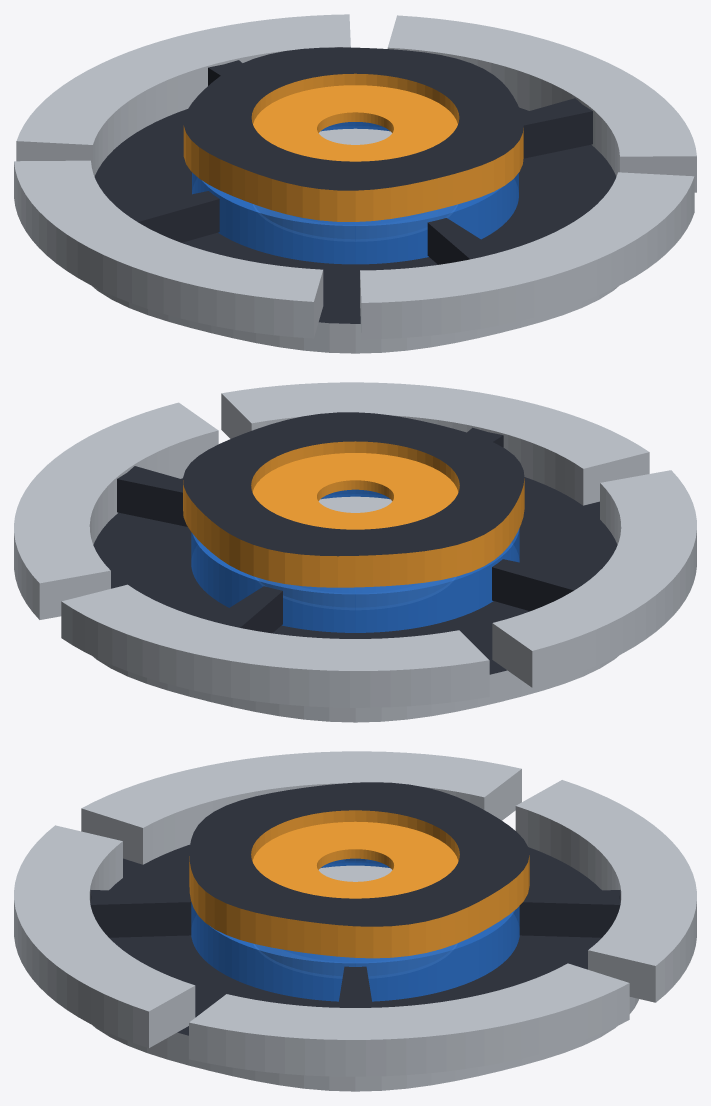
File: assembly_phase2a_orbit_halo.glb
3 renders of one model, top to bottom at view 1: azimuth 30°, elevation 25°; view 2: azimuth 150°, elevation 25°; view 3: azimuth 270°, elevation 25°, orthographic.
Parts seen in each view (by area): view 1: GEO_core_solar_wolf_BODY, GEO_blade_orbit_halo_RING_4, GEO_blade_orbit_halo_RING_3, GEO_assist_heavy_BODY, GEO_blade_orbit_halo_RING_2, GEO_blade_orbit_halo_RING_1, GEO_blade_orbit_halo_HUB, GEO_core_solar_wolf_NSS_V1_COLLAR, GEO_blade_orbit_halo_SPOKE_3, GEO_blade_orbit_halo_SPOKE_1, GEO_blade_orbit_halo_SPOKE_4, GEO_blade_orbit_halo_NSS_V1_COLLAR; view 2: GEO_core_solar_wolf_BODY, GEO_blade_orbit_halo_RING_2, GEO_assist_heavy_BODY, GEO_blade_orbit_halo_RING_3, GEO_blade_orbit_halo_RING_4, GEO_blade_orbit_halo_RING_1, GEO_blade_orbit_halo_HUB, GEO_core_solar_wolf_NSS_V1_COLLAR, GEO_blade_orbit_halo_SPOKE_3, GEO_blade_orbit_halo_SPOKE_1, GEO_blade_orbit_halo_SPOKE_2, GEO_blade_orbit_halo_NSS_V1_COLLAR; view 3: GEO_core_solar_wolf_BODY, GEO_blade_orbit_halo_RING_1, GEO_blade_orbit_halo_RING_4, GEO_blade_orbit_halo_RING_2, GEO_assist_heavy_BODY, GEO_blade_orbit_halo_RING_3, GEO_blade_orbit_halo_HUB, GEO_core_solar_wolf_NSS_V1_COLLAR, GEO_blade_orbit_halo_SPOKE_4, GEO_blade_orbit_halo_SPOKE_2, GEO_blade_orbit_halo_SPOKE_1, GEO_blade_orbit_halo_NSS_V1_COLLAR.
Boxes of the visible parts, <box> form: GEO_core_solar_wolf_BODY: <box>183,47,523,221</box>; GEO_blade_orbit_halo_RING_4: <box>360,172,694,339</box>; GEO_blade_orbit_halo_RING_3: <box>14,160,323,338</box>; GEO_assist_heavy_BODY: <box>92,107,618,353</box>; GEO_blade_orbit_halo_RING_2: <box>16,14,350,176</box>; GEO_blade_orbit_halo_RING_1: <box>387,15,696,192</box>; GEO_blade_orbit_halo_HUB: <box>192,122,518,264</box>; GEO_core_solar_wolf_NSS_V1_COLLAR: <box>253,85,457,161</box>; GEO_blade_orbit_halo_SPOKE_3: <box>120,191,219,242</box>; GEO_blade_orbit_halo_SPOKE_1: <box>521,98,592,158</box>; GEO_blade_orbit_halo_SPOKE_4: <box>427,218,500,264</box>; GEO_blade_orbit_halo_NSS_V1_COLLAR: <box>319,128,391,144</box>; GEO_core_solar_wolf_BODY: <box>183,412,524,587</box>; GEO_blade_orbit_halo_RING_2: <box>61,584,489,707</box>; GEO_assist_heavy_BODY: <box>93,477,618,722</box>; GEO_blade_orbit_halo_RING_3: <box>492,470,696,687</box>; GEO_blade_orbit_halo_RING_4: <box>221,382,649,505</box>; GEO_blade_orbit_halo_RING_1: <box>14,402,218,619</box>; GEO_blade_orbit_halo_HUB: <box>191,489,519,632</box>; GEO_core_solar_wolf_NSS_V1_COLLAR: <box>252,453,458,529</box>; GEO_blade_orbit_halo_SPOKE_3: <box>492,559,591,611</box>; GEO_blade_orbit_halo_SPOKE_1: <box>117,466,187,526</box>; GEO_blade_orbit_halo_SPOKE_2: <box>209,586,282,633</box>; GEO_blade_orbit_halo_NSS_V1_COLLAR: <box>318,496,392,512</box>; GEO_core_solar_wolf_BODY: <box>189,782,529,958</box>; GEO_blade_orbit_halo_RING_1: <box>189,963,629,1076</box>; GEO_blade_orbit_halo_RING_4: <box>14,825,195,1048</box>; GEO_blade_orbit_halo_RING_2: <box>515,780,696,1002</box>; GEO_assist_heavy_BODY: <box>92,844,639,1091</box>; GEO_blade_orbit_halo_RING_3: <box>81,751,521,864</box>; GEO_blade_orbit_halo_HUB: <box>191,858,519,1001</box>; GEO_core_solar_wolf_NSS_V1_COLLAR: <box>252,821,458,898</box>; GEO_blade_orbit_halo_SPOKE_4: <box>90,890,191,937</box>; GEO_blade_orbit_halo_SPOKE_2: <box>519,890,620,937</box>; GEO_blade_orbit_halo_SPOKE_1: <box>338,966,372,1007</box>; GEO_blade_orbit_halo_NSS_V1_COLLAR: <box>318,865,392,881</box>.
Size of the model in its own units: 0.0706 by 0.0236 by 0.0706.
